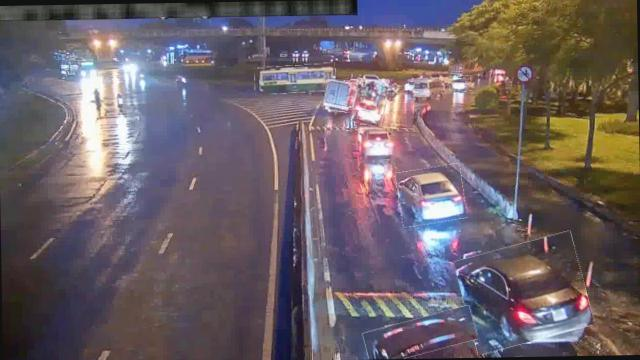Bike: (89, 85, 102, 107)
Bus: (254, 64, 336, 94), (352, 78, 388, 114), (410, 76, 439, 100)
Car: (458, 236, 590, 348), (362, 310, 477, 358), (397, 165, 466, 225), (357, 122, 394, 160), (352, 96, 386, 127), (449, 76, 472, 92)
Truck: (324, 80, 357, 112)
